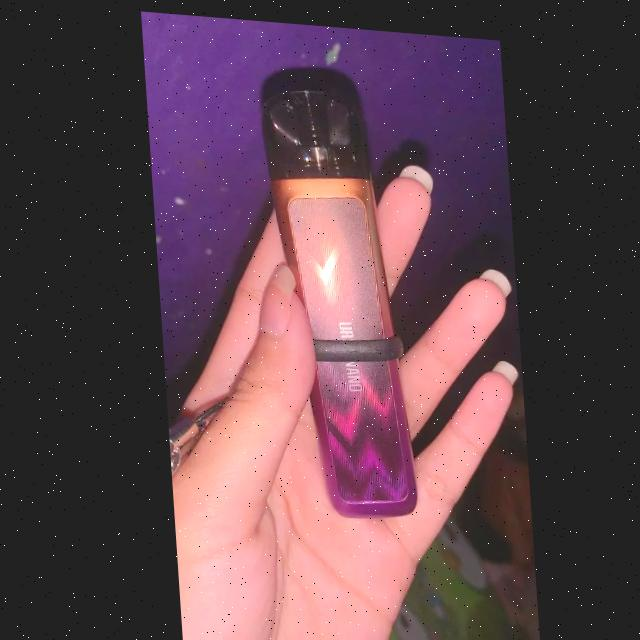vape: (256, 52, 410, 515)
